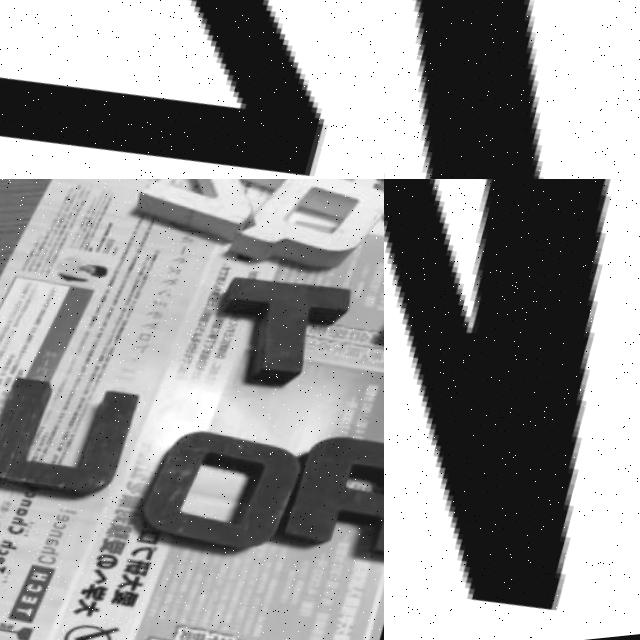A: (283, 429, 384, 579)
D: (384, 0, 640, 179)
O: (136, 424, 311, 577)
Q: (237, 179, 384, 300)
T: (201, 265, 360, 411)
U: (0, 351, 168, 532)
V: (384, 179, 640, 640)
Z: (0, 0, 384, 179), (119, 179, 294, 272)
